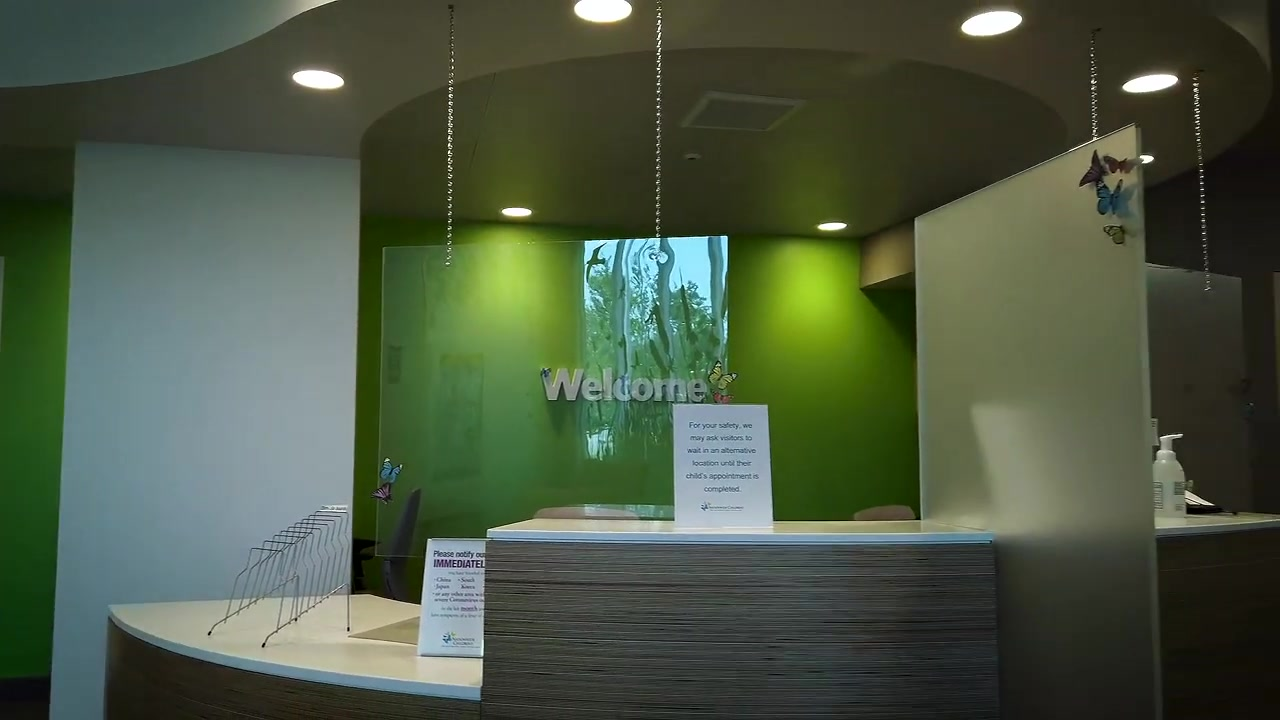chair: (350, 486, 422, 602)
counter: (110, 527, 991, 720), (1150, 520, 1280, 719)
countertop: (107, 593, 483, 701), (487, 517, 994, 545), (1155, 509, 1280, 538)
dispenser: (1153, 431, 1185, 519)
